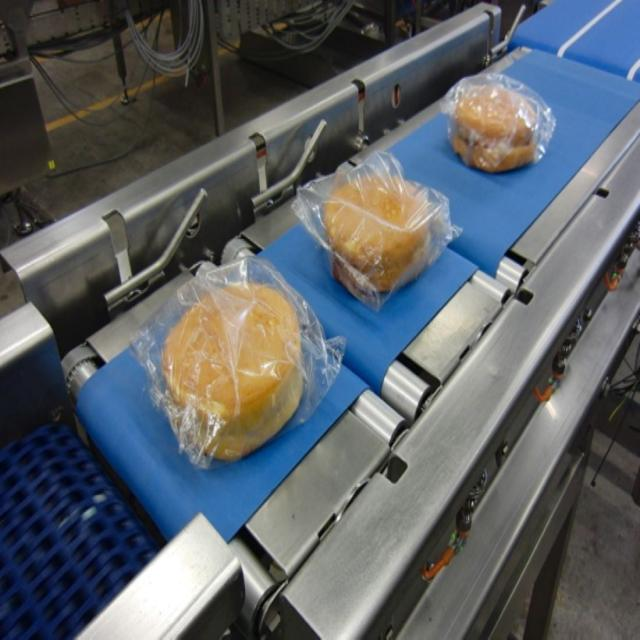food: (133, 232, 335, 464), (293, 139, 455, 314), (442, 49, 564, 188)
